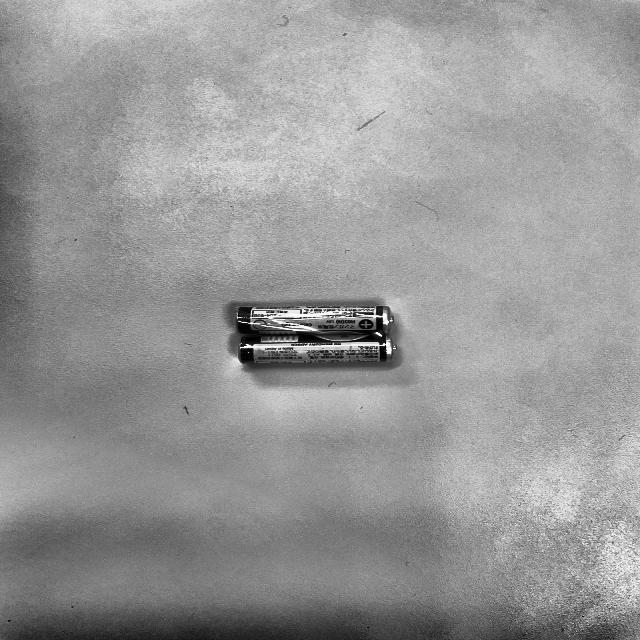drycell: (232, 302, 399, 368)
